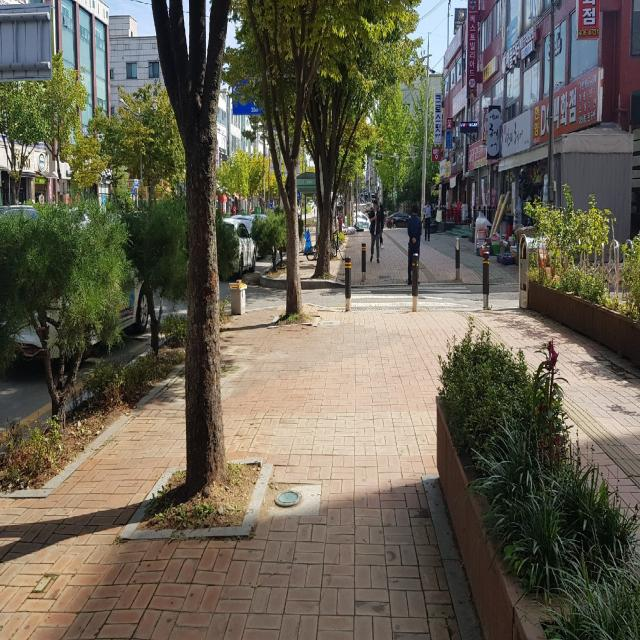횡단보도: (350, 287, 477, 307)
